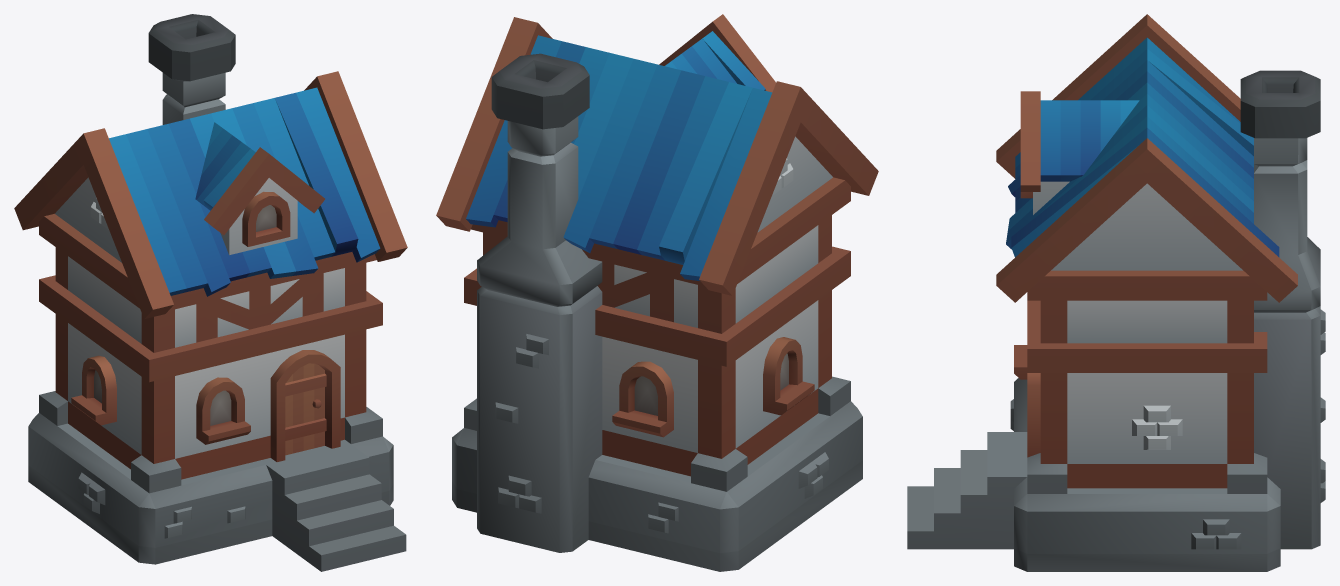
File: H_home_B_blue.glb
3 renders of one model, left to right at view 1: azimuth 30°, elevation 25°; view 2: azimuth 150°, elevation 25°; view 3: azimuth 270°, elevation 25°, orthographic. The views are drawn at different scales.
Parts seen in each view (by area): view 1: building_home_B_blue; view 2: building_home_B_blue; view 3: building_home_B_blue.
Boxes of the visible parts, <box> form: building_home_B_blue: <box>14,14,407,571</box>; building_home_B_blue: <box>436,14,878,571</box>; building_home_B_blue: <box>907,14,1325,571</box>.
Size of the model in its own units: 0.8749 by 1.28 by 1.1.
